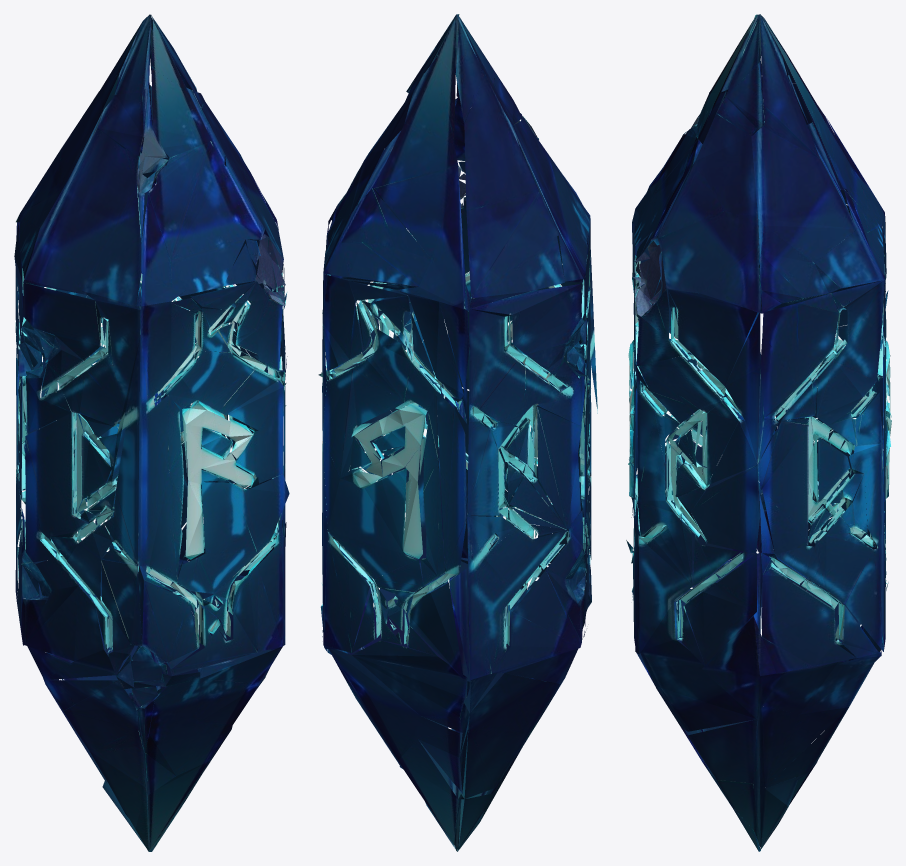
Rendered from crystal_rune.glb.
3 views of the same model, side by side, from view 1: azimuth 30°, elevation 25°; view 2: azimuth 150°, elevation 25°; view 3: azimuth 270°, elevation 25° (orthographic).
Visible parts, largest first — view 1: crystal; view 2: crystal; view 3: crystal.
Part boxes in pixels (<box>): crystal: <box>14,14,289,851</box>; crystal: <box>318,14,597,851</box>; crystal: <box>626,14,891,851</box>.
Bounding box in the file's own units: 0.9873 × 3 × 0.8623.
Materials: 1 (1 with a texture image).
